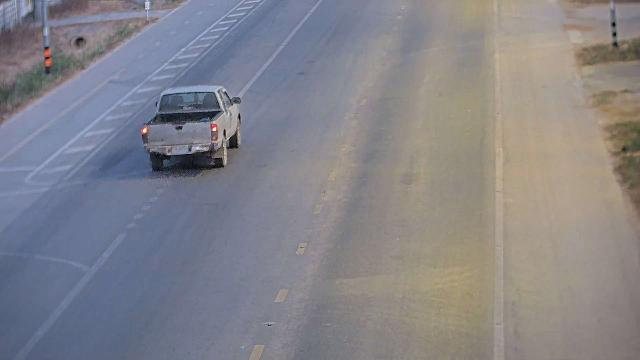pickup-truck: (140, 84, 242, 171)
